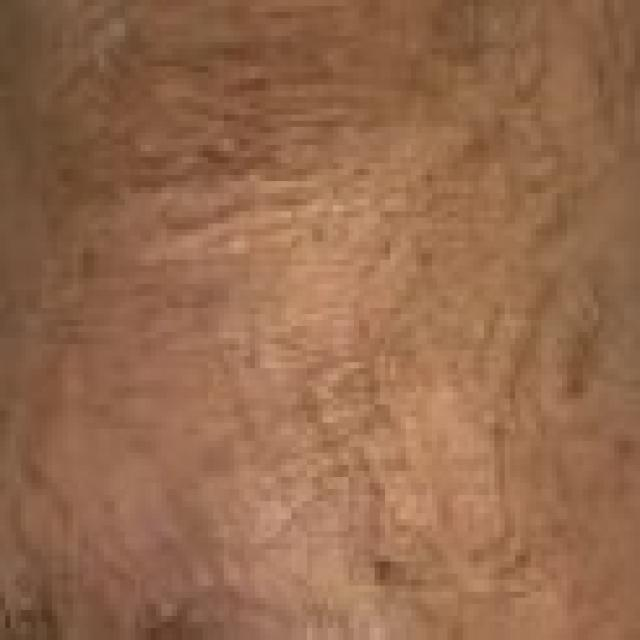wound: (157, 152, 507, 610)
